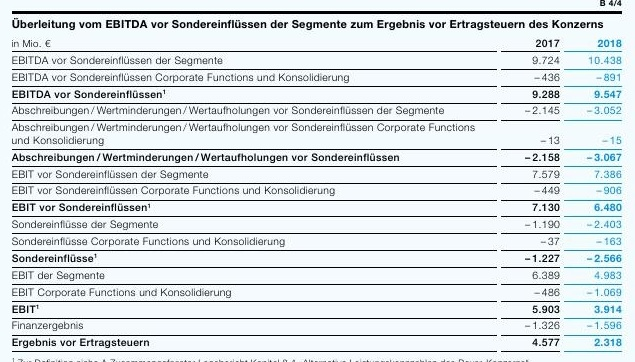table: (0, 0, 635, 362)
